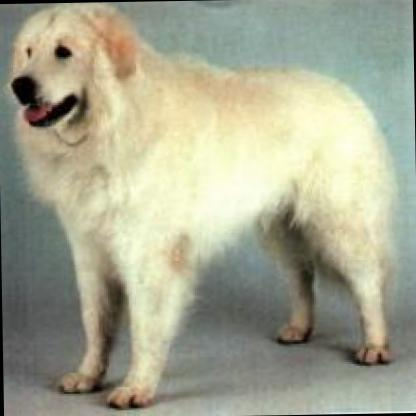kuvasz: (2, 0, 402, 406)
